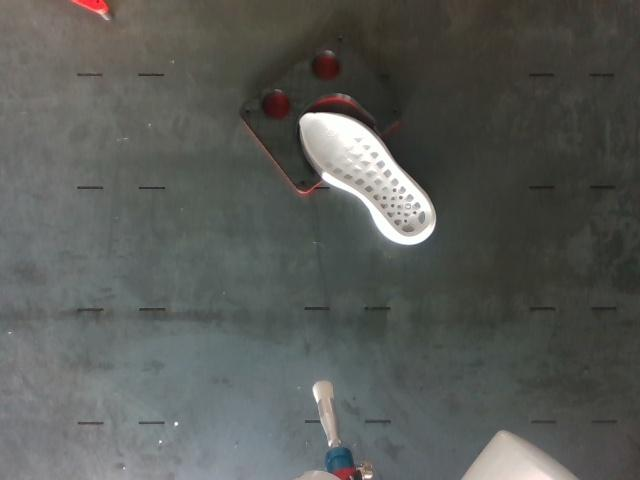shoes: (300, 113, 431, 237)
